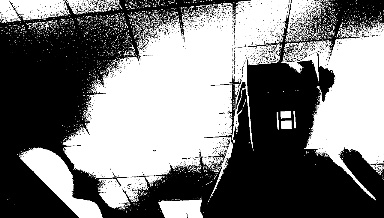H: (276, 109, 295, 129)
